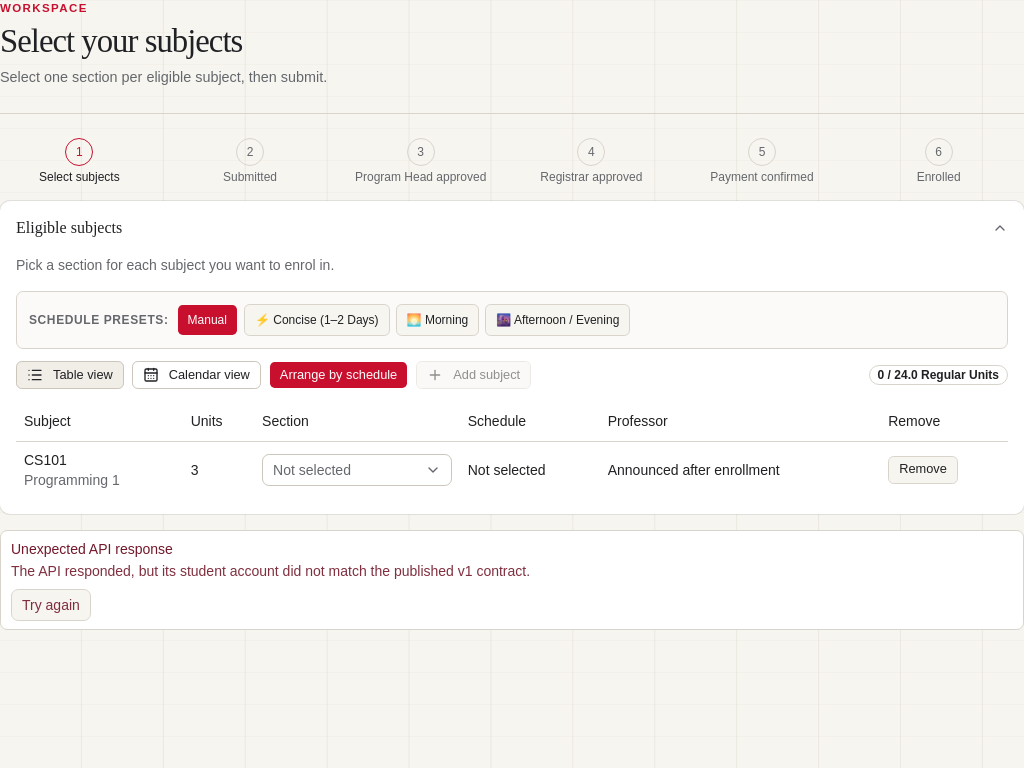
Test: EnrollmentWorkspace › preserves the selected section when submission fails
Click the dropdown named "CS101 section" at point(357, 470), box x1=262 y1=454 x2=452 y2=486
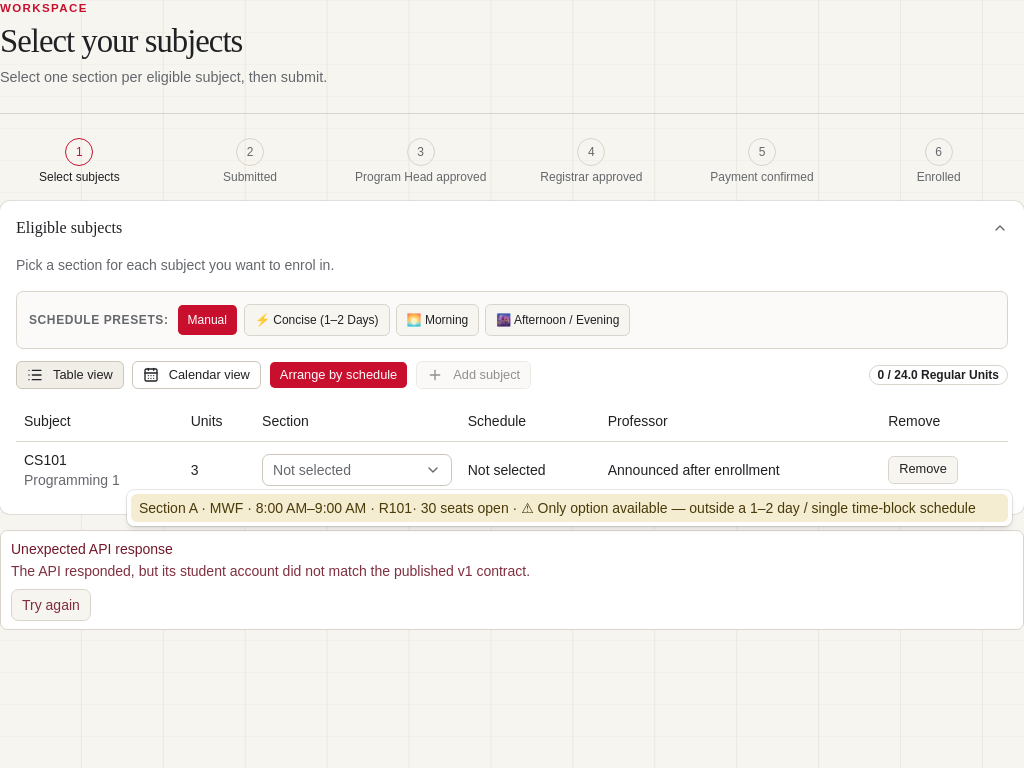
Click the option "Section A" at point(569, 508), box x1=131 y1=494 x2=1008 y2=522
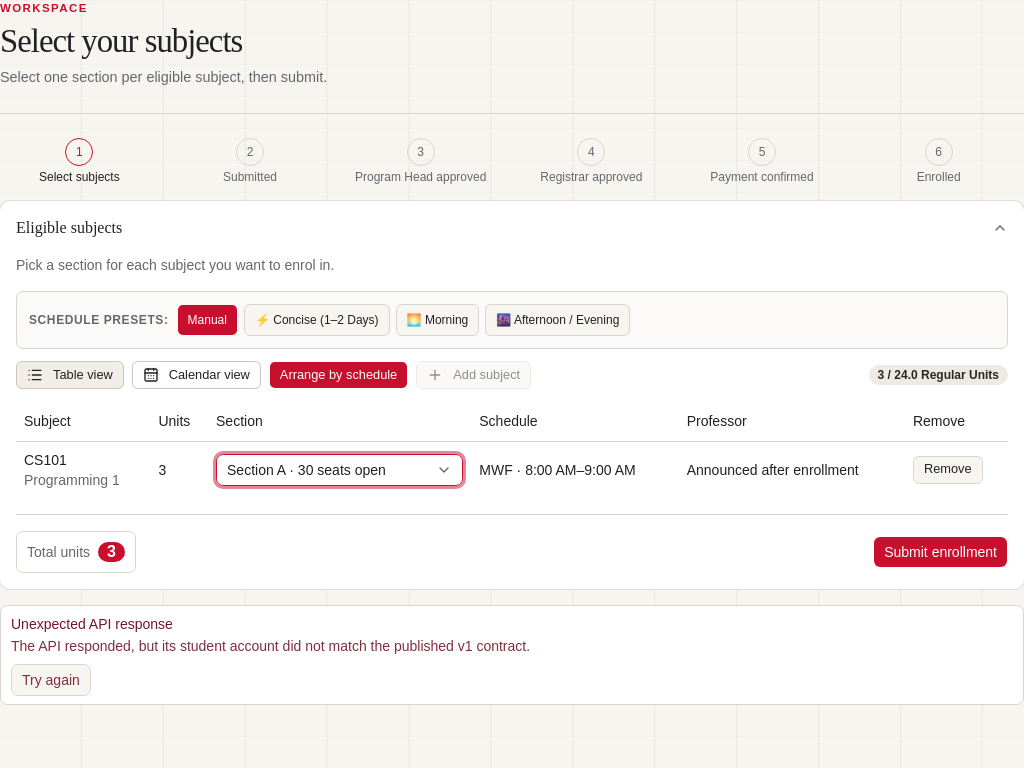
Click the button "Submit enrollment" at point(941, 552), box x1=873 y1=536 x2=1008 y2=568
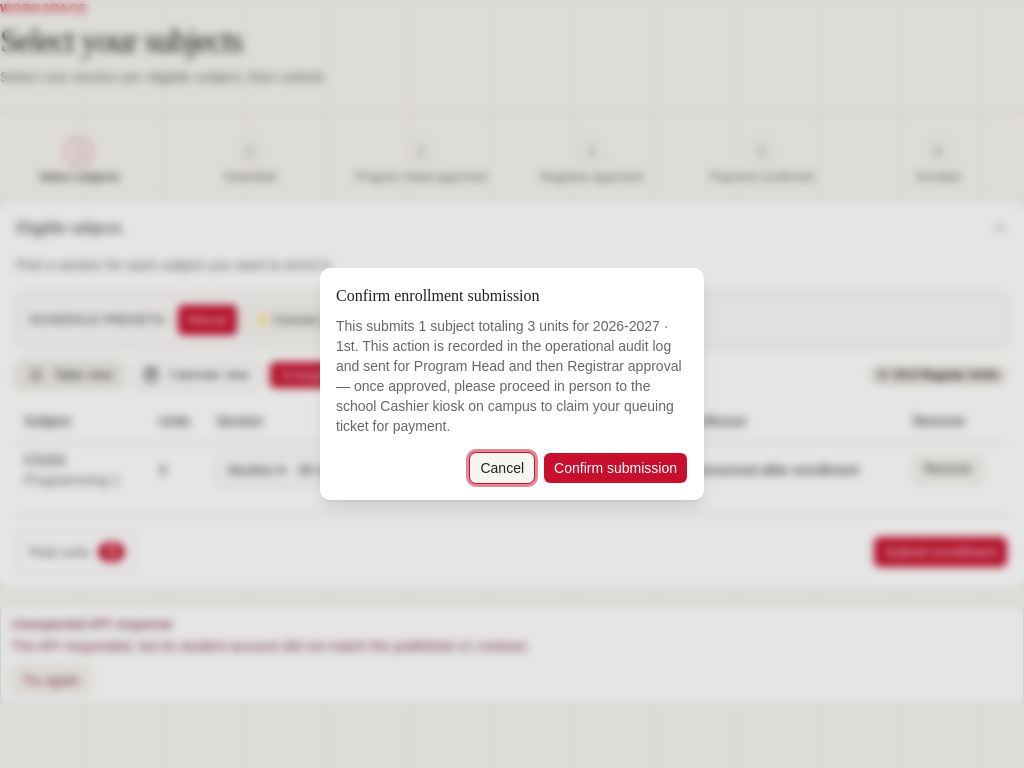
Click the button "Confirm submission" at point(616, 468), box x1=543 y1=452 x2=688 y2=484
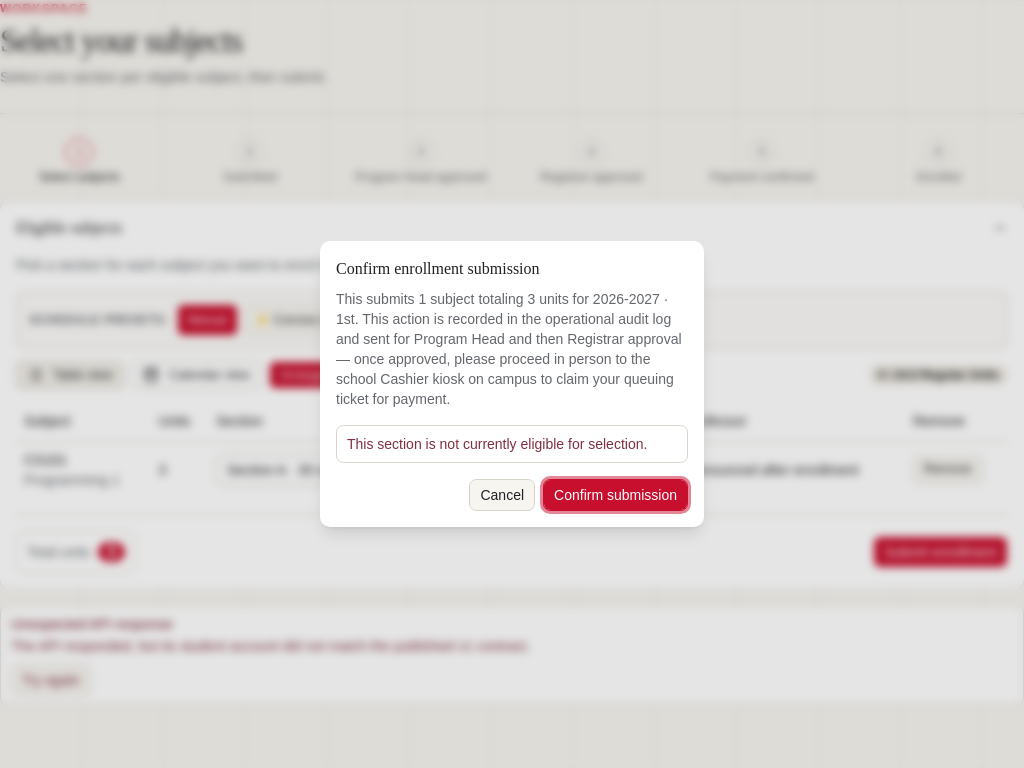
Result: the dropdown named "CS101 section" shows "Section A" at x1=216 y1=454 x2=463 y2=486
Result: the list item "This section is not currently eligible for selection." is shown at x1=347 y1=434 x2=677 y2=454
